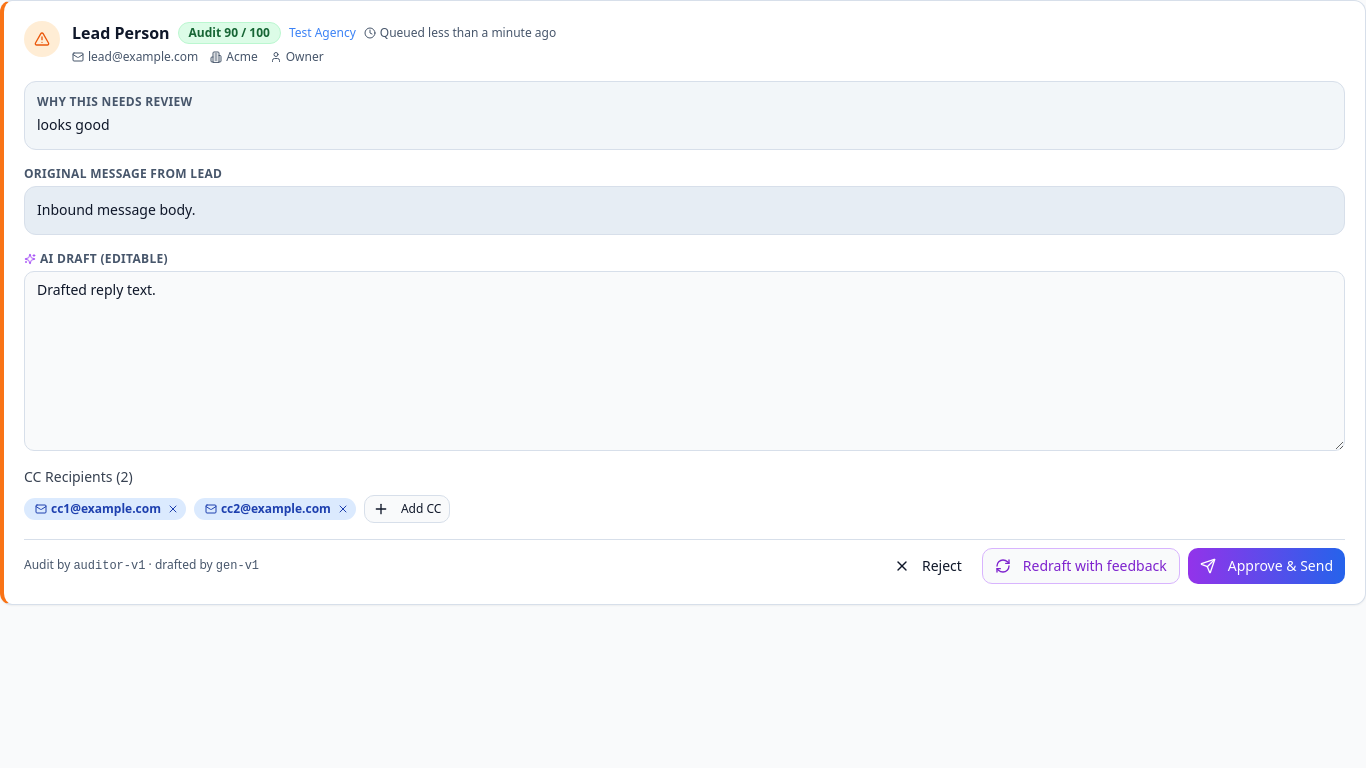
AutoReplyReviewCard › after successful send, transitions to assigning view
Click the button "Approve & Send".
click(1266, 566)  # box [1188,548,1345,584]
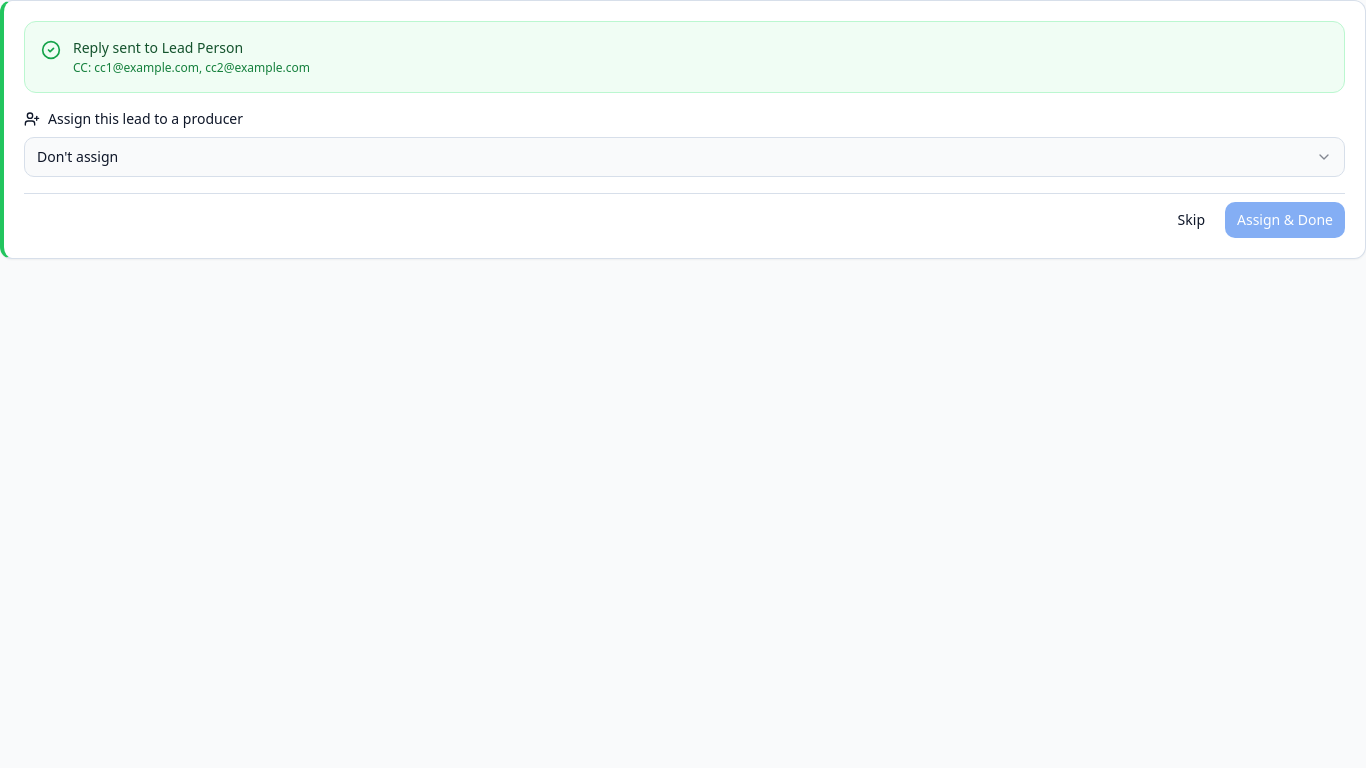
Result: the text "Reply sent to Lead Person" is shown at [73,38,243,57]
Result: the text "Assign this lead to a producer" is shown at [24,109,243,128]
